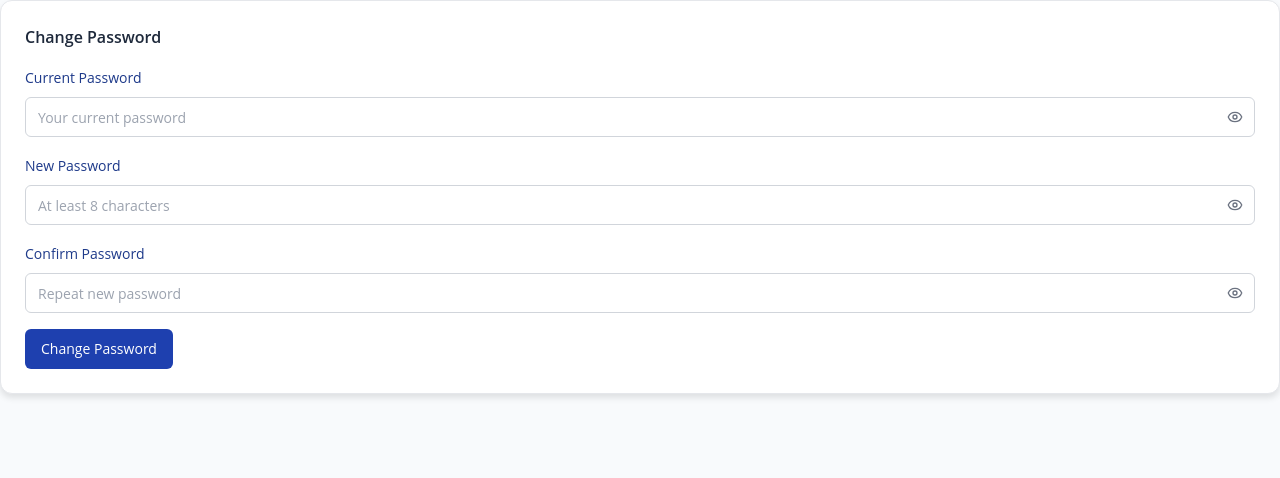
it: ChangePasswordSection › shows "Current password is incorrect." on 400
Step 1. Type "wrongpass" into the password field labelled "Current Password" → (640, 117), box [25,97,1255,137]
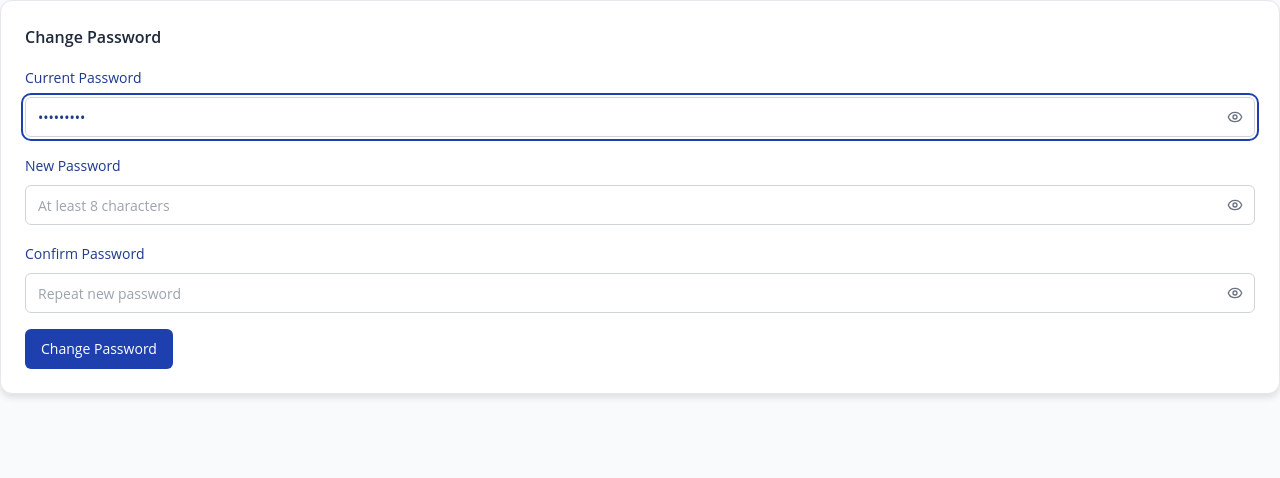
Step 2. Type "newpass99" into the password field labelled "New Password" → (640, 205), box [25,185,1255,225]
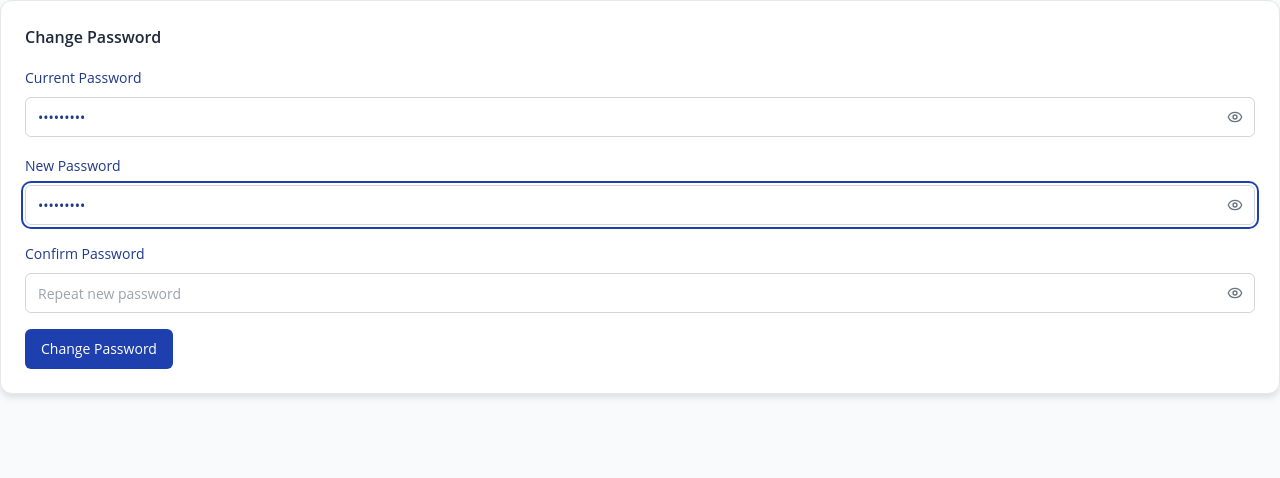
Step 3. Type "newpass99" into the password field labelled "Confirm Password" → (640, 293), box [25,273,1255,313]
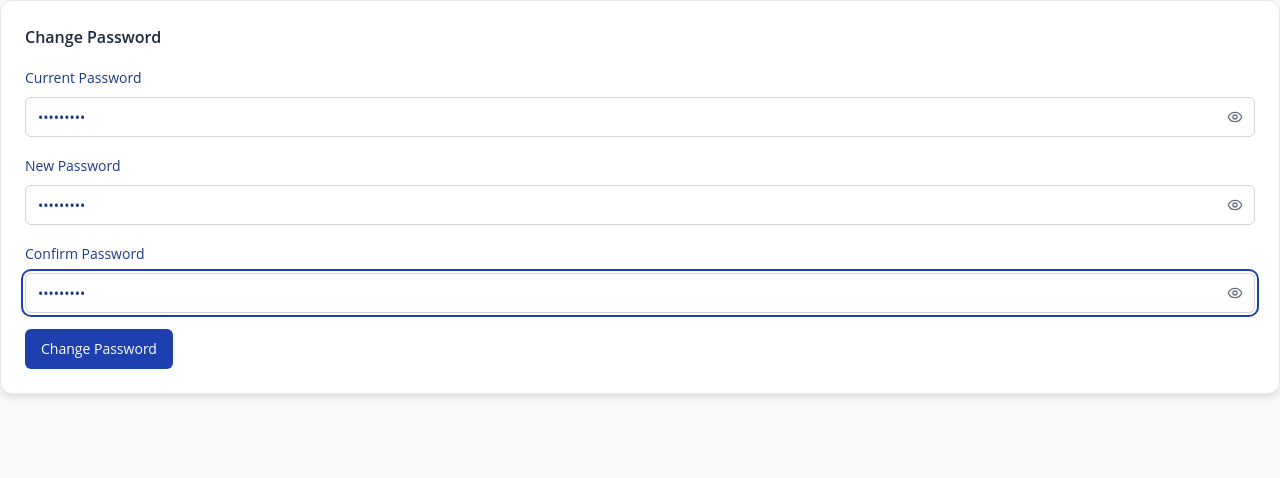
Step 4. Click the button "Change Password" → (99, 349), box [25,329,173,369]
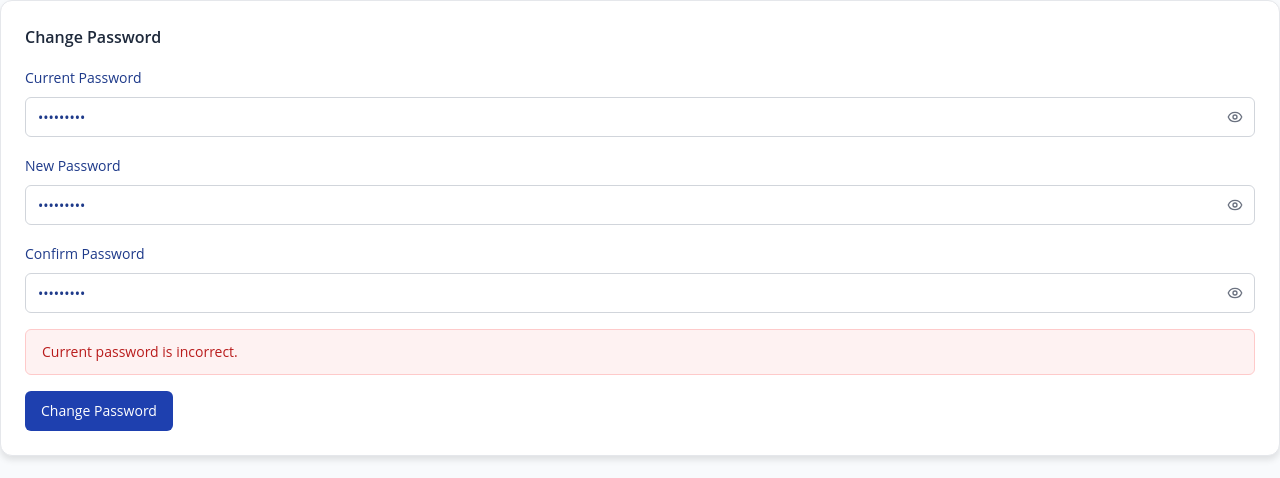
Now the message reads "Current password is incorrect.", box [42,342,238,361]
